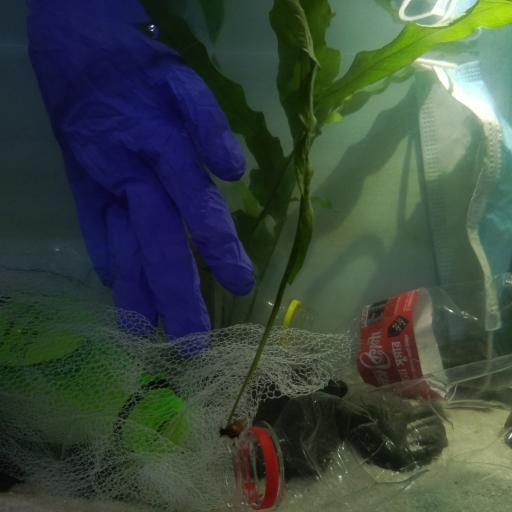glove: (26, 21, 259, 336)
mask: (412, 44, 512, 341)
net: (0, 260, 359, 511)
plastic_bottle: (215, 345, 512, 512), (0, 286, 193, 459), (323, 286, 512, 406), (190, 265, 316, 339)
